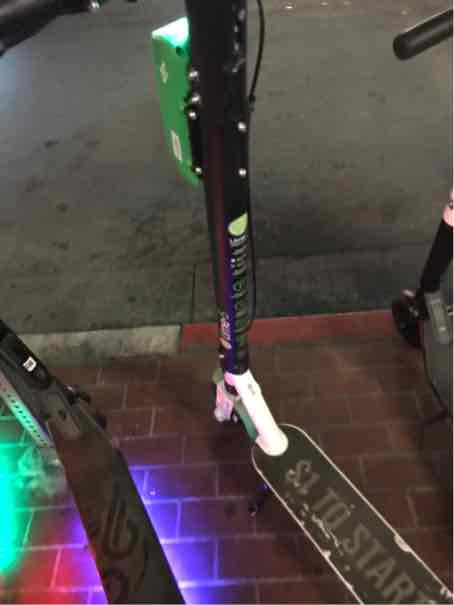scooter: (147, 4, 454, 597)
